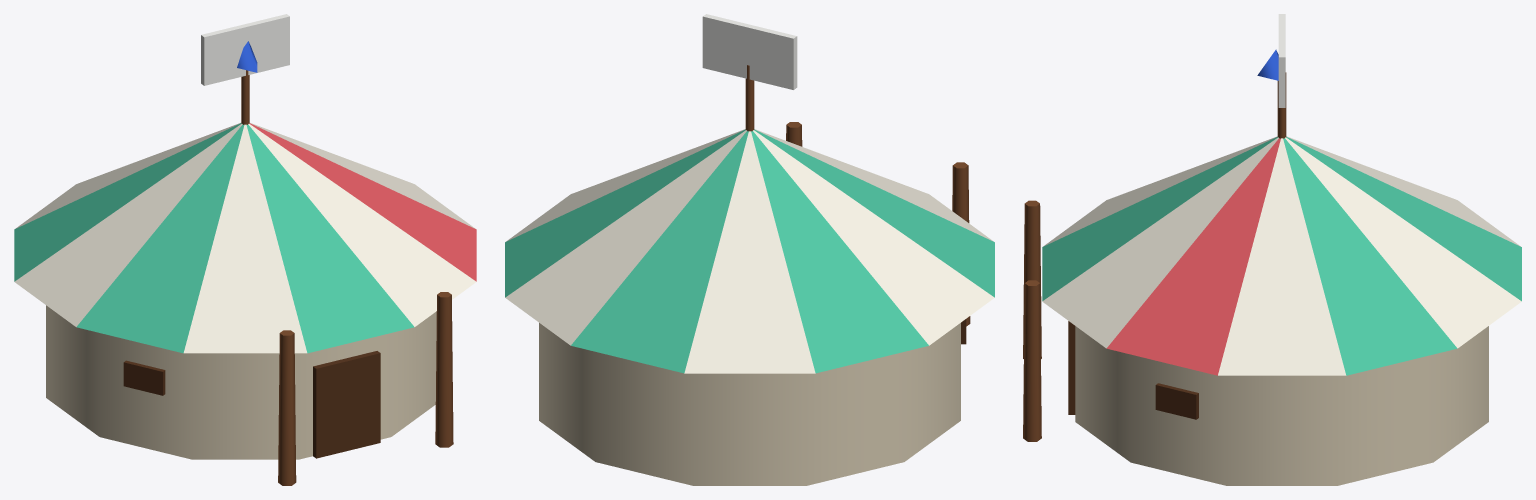
The model's file is carpa.glb.
3 renders of one model, left to right at view 1: azimuth 30°, elevation 25°; view 2: azimuth 150°, elevation 25°; view 3: azimuth 270°, elevation 25°, orthographic. The views are drawn at different scales.
Visible parts, largest first — view 1: techo_lona_blanca, techo_lona_verde, pared, puerta, techo_lona_roja, letrero, poste_2, poste_1, ventana_1; view 2: pared, techo_lona_blanca, techo_lona_verde, letrero, poste_1, mastil; view 3: pared, techo_lona_blanca, techo_lona_verde, techo_lona_roja, poste_2, poste_1, ventana_2, letrero, puerta.
Part boxes in pixels (box(x1,y1,x2,y2)): techo_lona_blanca: box(14, 123, 476, 353); techo_lona_verde: box(14, 123, 414, 353); pared: box(46, 305, 436, 459); puerta: box(313, 351, 380, 458); techo_lona_roja: box(249, 123, 476, 281); letrero: box(201, 14, 289, 85); poste_2: box(435, 292, 453, 447); poste_1: box(278, 330, 296, 485); ventana_1: box(123, 360, 165, 395); pared: box(539, 323, 960, 485); techo_lona_blanca: box(505, 129, 994, 373); techo_lona_verde: box(505, 129, 994, 373); letrero: box(702, 14, 797, 89); poste_1: box(952, 162, 970, 326); mastil: box(745, 65, 754, 131); pared: box(1075, 326, 1488, 485); techo_lona_blanca: box(1042, 136, 1521, 375); techo_lona_verde: box(1042, 137, 1521, 375); techo_lona_roja: box(1106, 138, 1280, 375); poste_2: box(1023, 280, 1041, 441); poste_1: box(1023, 200, 1041, 358); ventana_2: box(1155, 383, 1198, 419); letrero: box(1278, 14, 1285, 107); puerta: box(1068, 321, 1075, 414).
Size of the model in its own units: 5.6 by 4.68 by 5.83.
